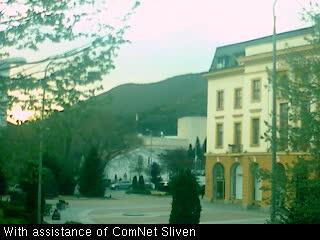person: (200, 184, 207, 200)
